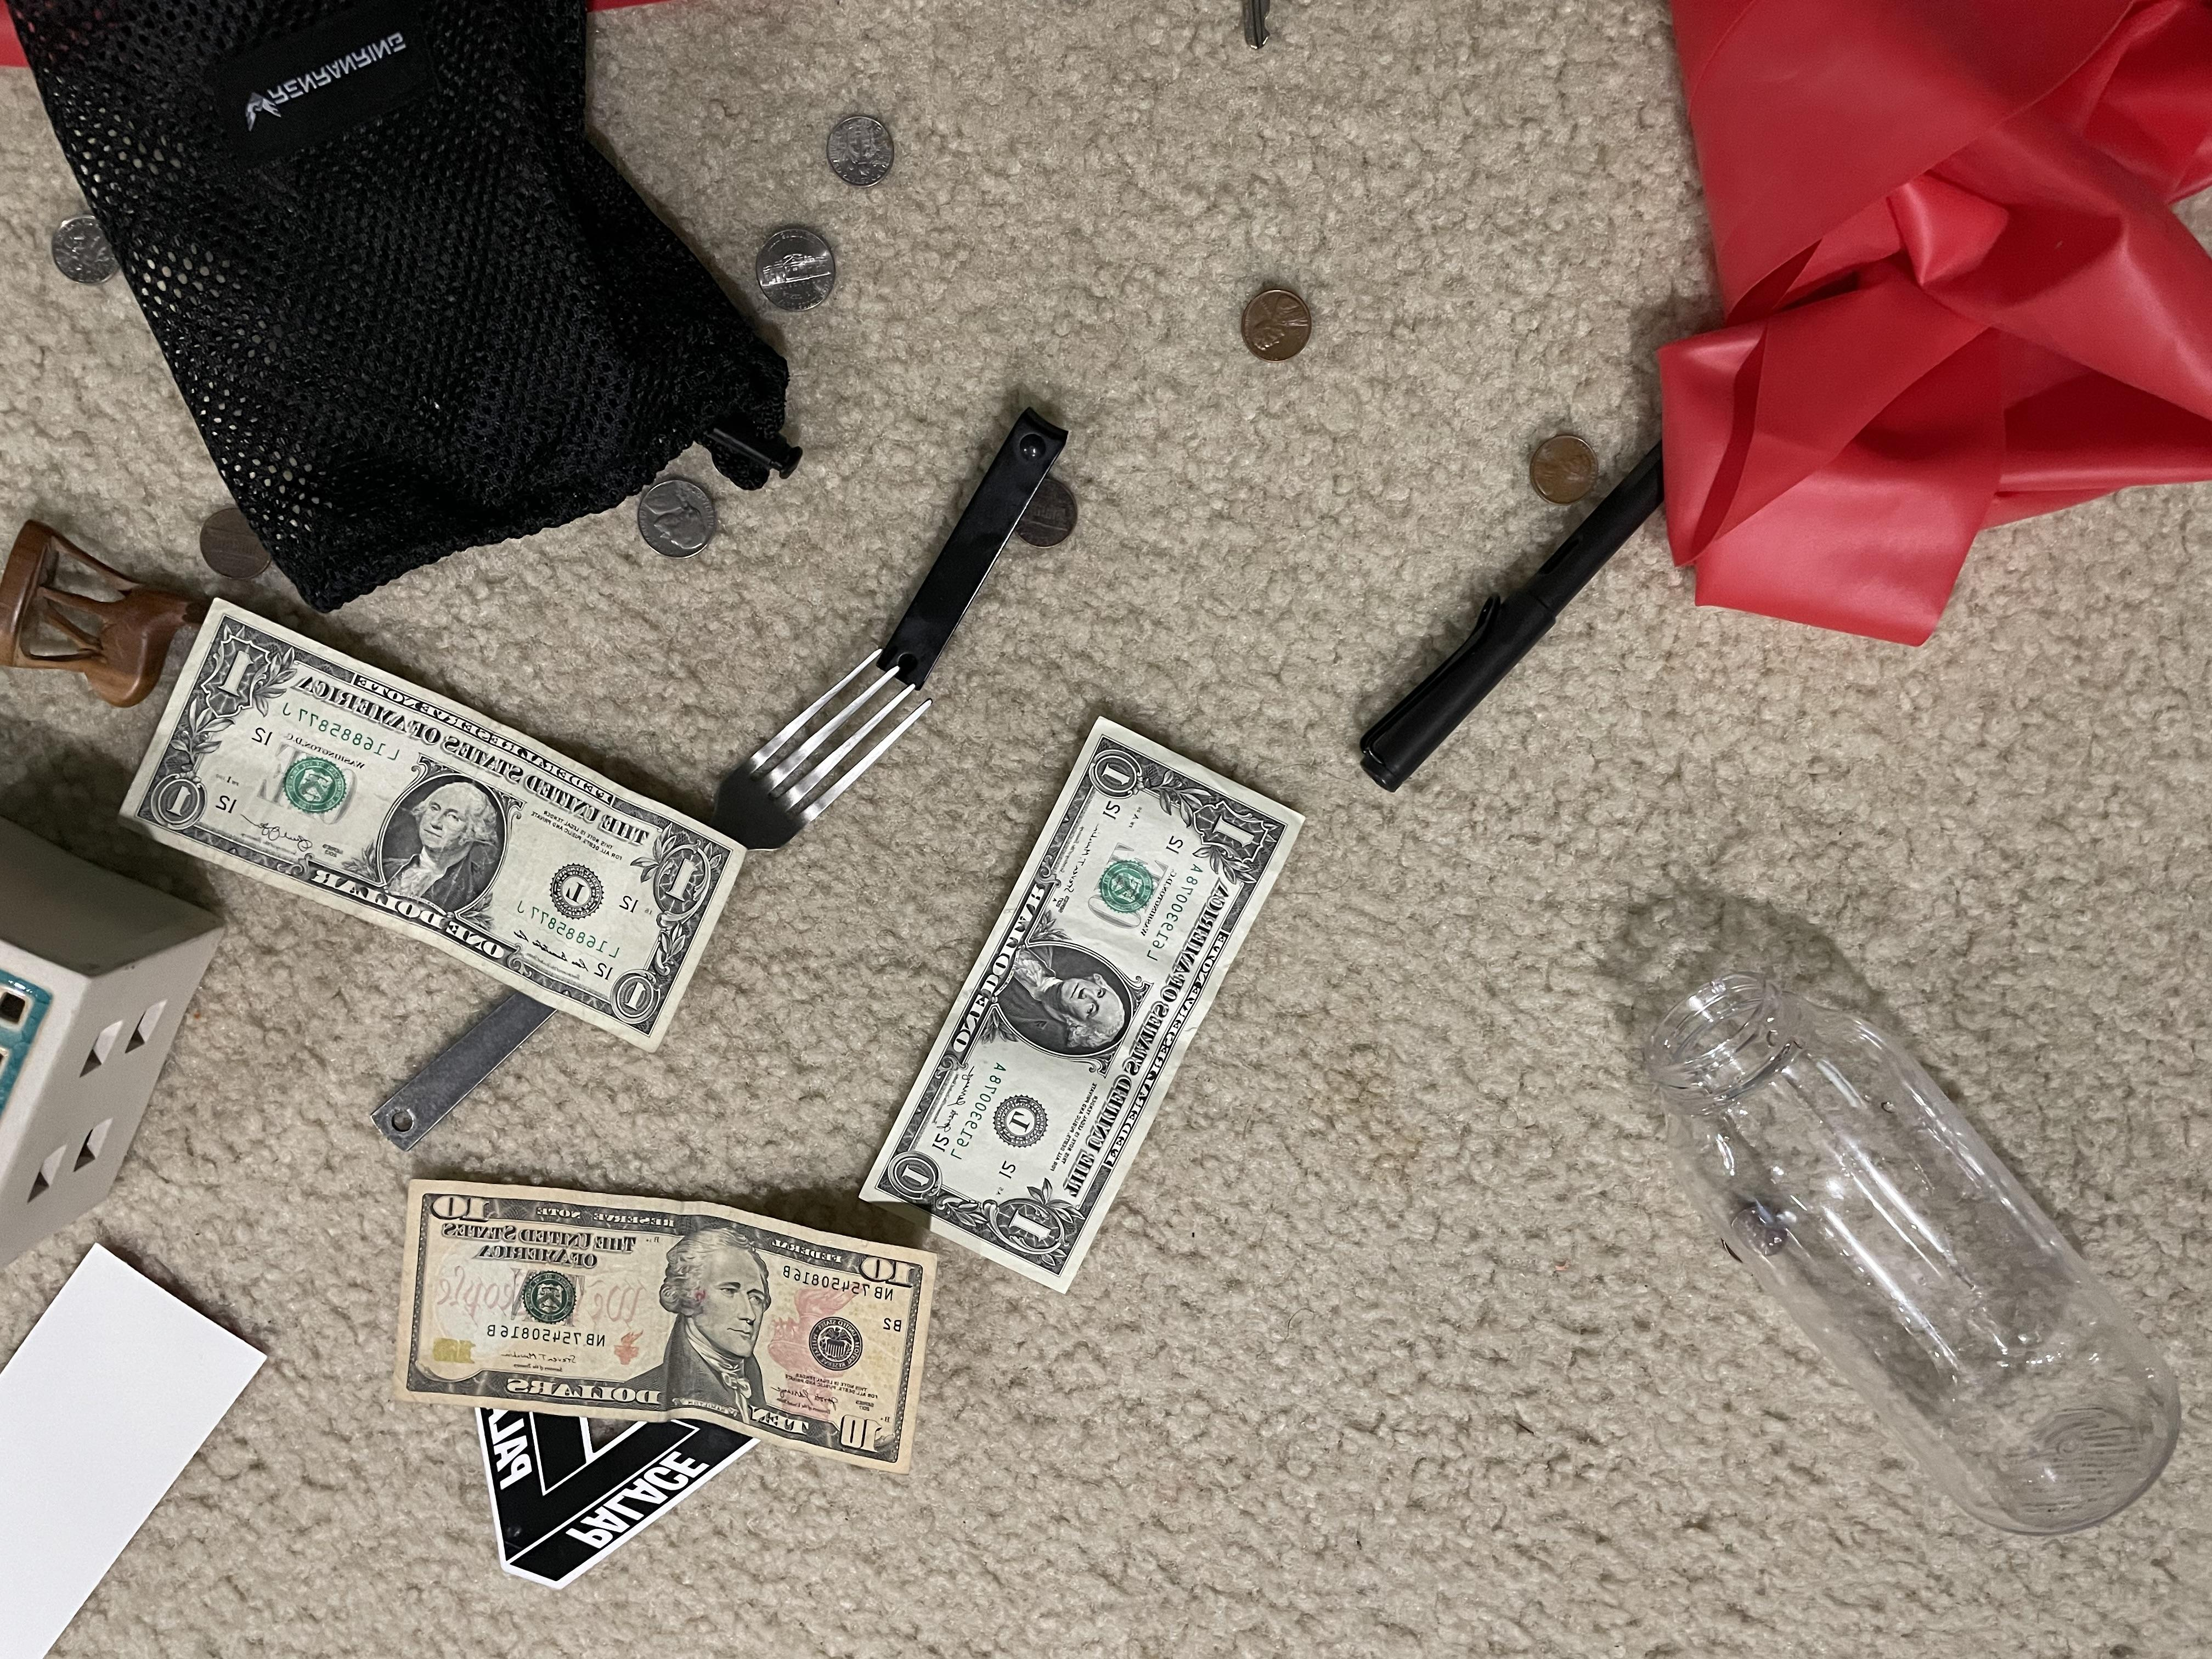Dime: (37, 211, 139, 291), (826, 108, 911, 195)
Nickel: (756, 218, 843, 321), (631, 481, 723, 565)
OneBill: (855, 702, 1320, 1304), (115, 610, 744, 1051)
Penny: (1224, 286, 1332, 364), (193, 497, 287, 580), (1514, 429, 1604, 512), (1000, 472, 1090, 556)
TenBill: (399, 1180, 951, 1474)
